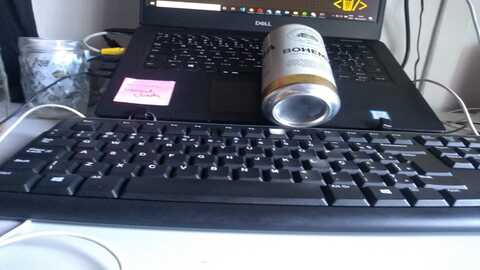bohemia: (254, 22, 340, 127)
